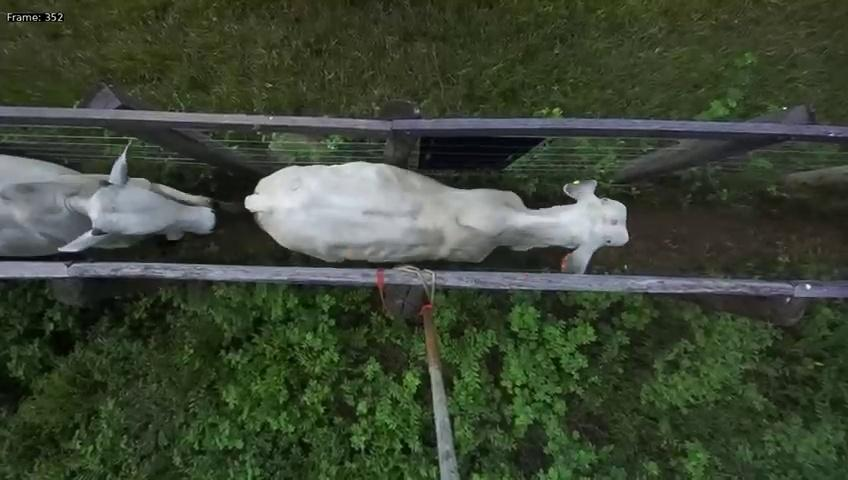cattle: (234, 134, 632, 274)
